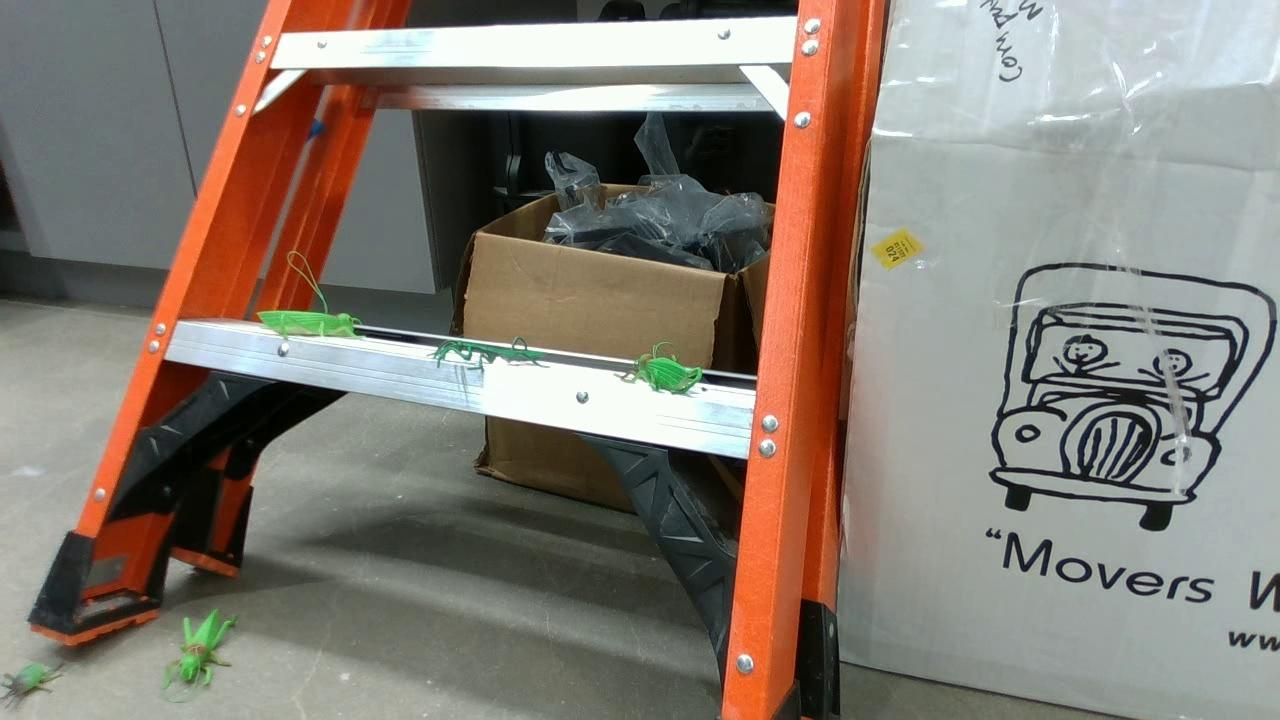grasshopper: (173, 607, 238, 694), (610, 345, 706, 401), (254, 305, 362, 343)
